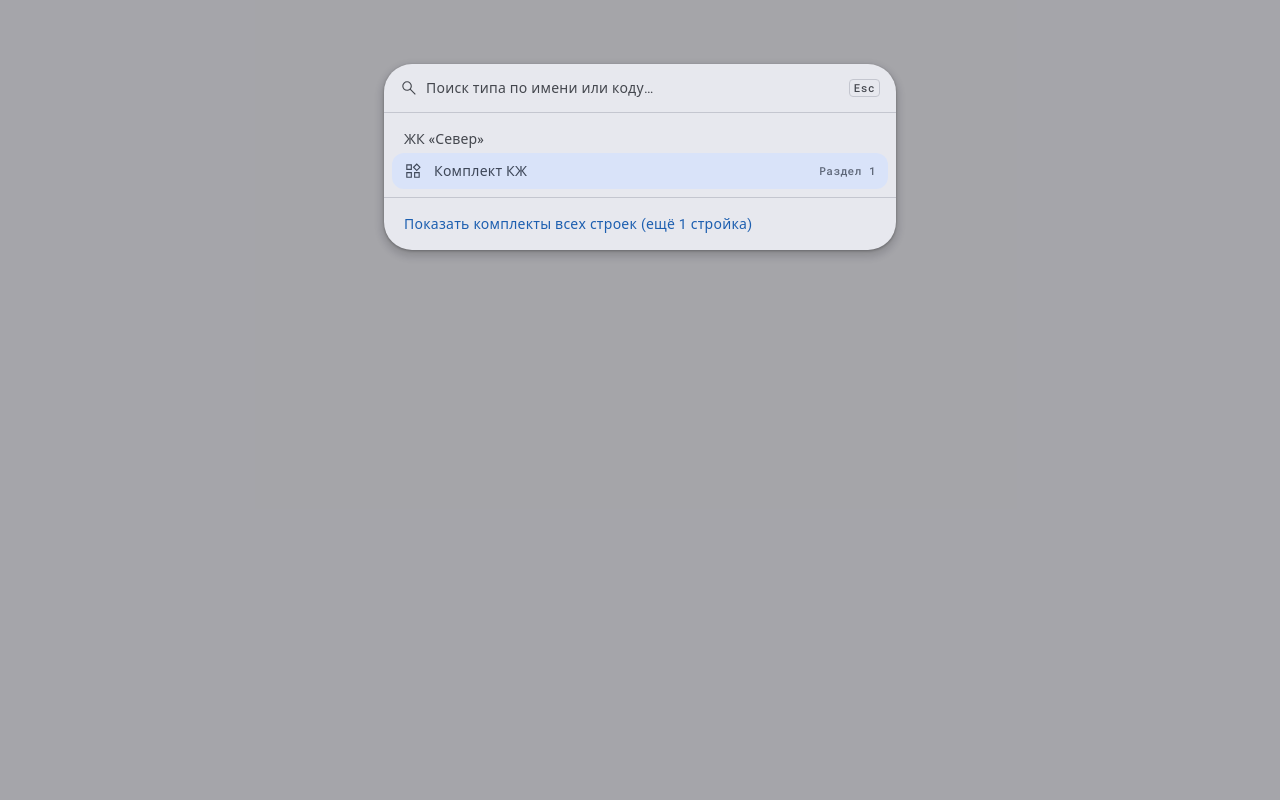
Test case: TypePicker: пункты в стороне (#1219) › поиск находит пункт в стороне под своим заголовком, а не «ничего не найдено»
The width and height of the screenshot is (1280, 800).
Type "ЭМ" into the field labelled "Поиск типа" at (633, 88), box [426, 64, 841, 112]
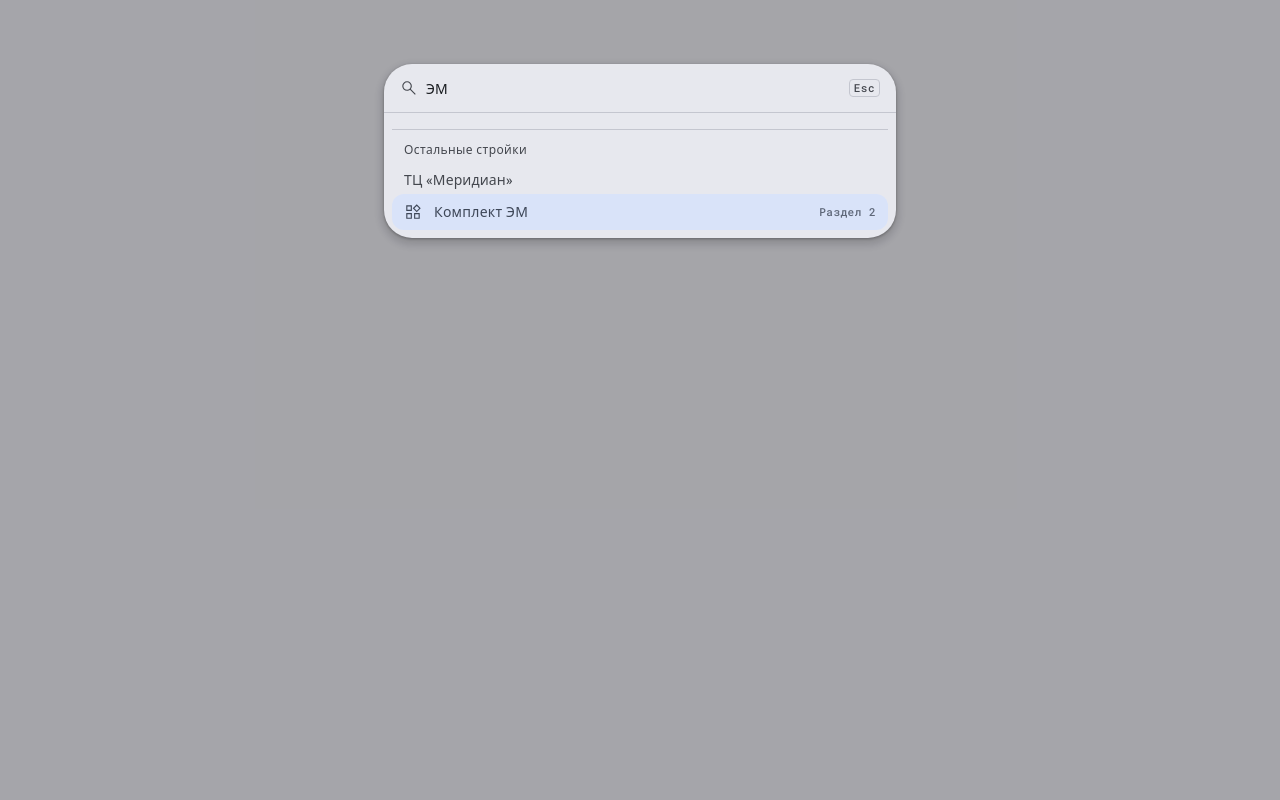
Expected: the text "Комплект ЭМ" is shown, [434, 204, 528, 220]
Expected: the text "Остальные стройки" is shown, [392, 129, 888, 162]
